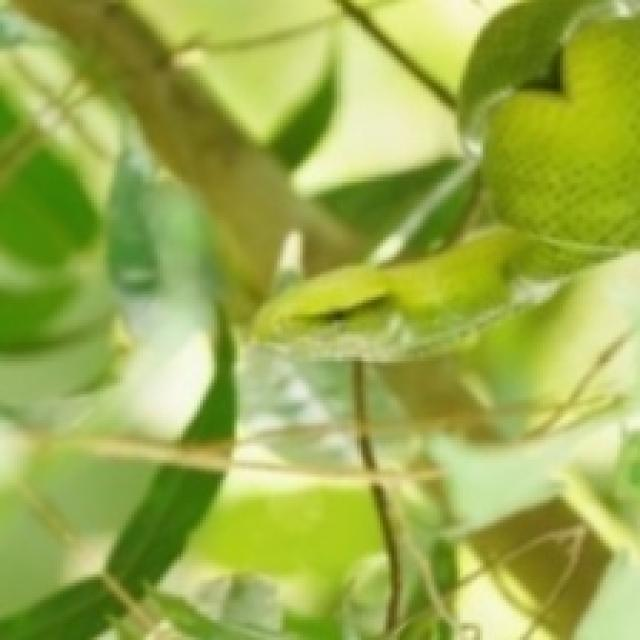red-tailed green ratsnake: (255, 0, 640, 359)
